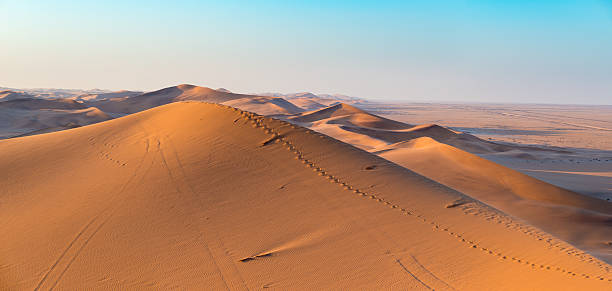animal_foot_print: (275, 137, 576, 275), (97, 143, 126, 166)
